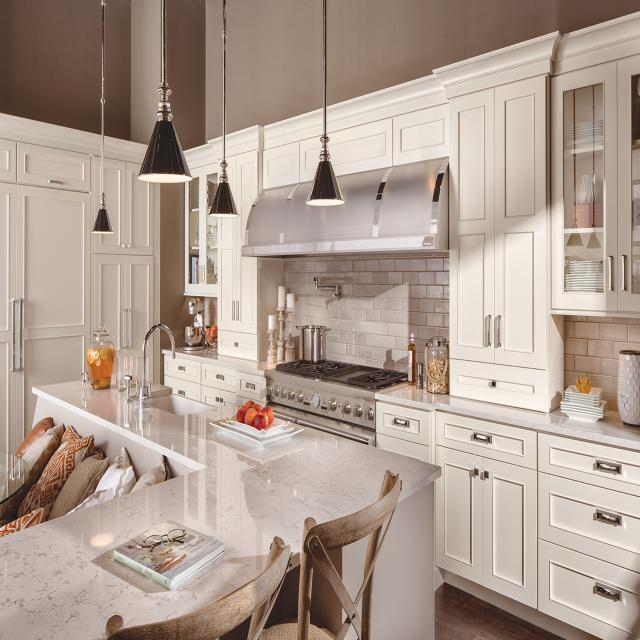Appliance_Oven: (265, 359, 407, 448)
Appliance_Sink: (124, 324, 210, 416)
Cabinet_Glass: (551, 55, 640, 314), (184, 163, 224, 298)
Cabinet_Shaker: (217, 33, 564, 414), (376, 398, 640, 640), (0, 114, 161, 504), (164, 354, 266, 404)
Countertop_Marble: (0, 380, 440, 640), (374, 385, 640, 451), (175, 347, 257, 372)
